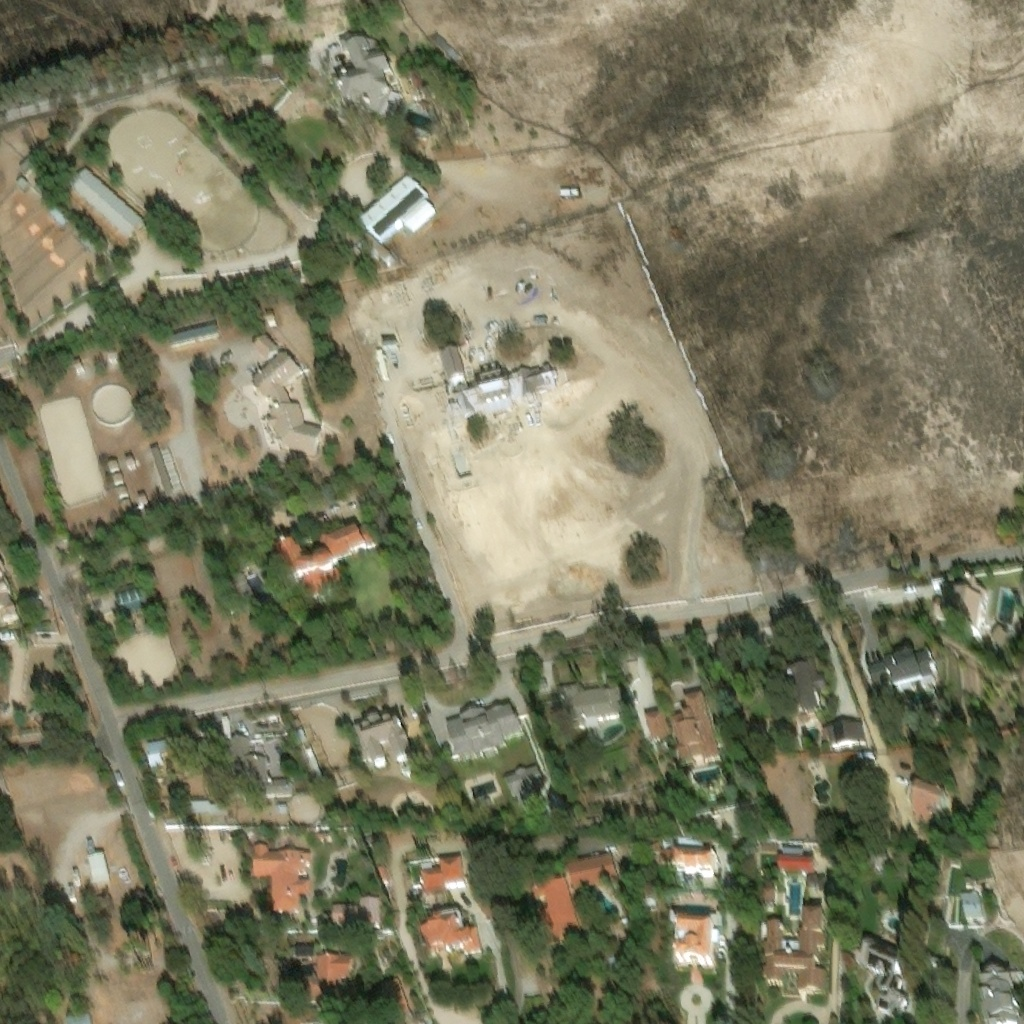0 no-damage: (274, 517, 377, 606), (250, 342, 322, 452), (66, 162, 149, 243), (643, 688, 720, 763), (333, 34, 401, 116), (358, 168, 435, 239), (762, 900, 824, 982), (442, 700, 522, 760), (350, 707, 418, 772), (250, 842, 310, 910), (852, 932, 904, 1010), (223, 732, 289, 793), (525, 875, 582, 944), (973, 945, 1023, 1023), (556, 680, 622, 734), (930, 576, 990, 630), (300, 948, 357, 1003), (667, 902, 719, 961), (864, 646, 935, 689), (418, 909, 480, 953), (783, 656, 827, 718), (378, 972, 431, 1023), (448, 378, 515, 418), (154, 312, 221, 349), (565, 849, 617, 892), (501, 762, 542, 809), (142, 732, 197, 767), (416, 851, 464, 891), (506, 364, 558, 398), (905, 770, 944, 814), (331, 893, 380, 922), (824, 716, 867, 747), (113, 576, 151, 609), (149, 444, 173, 494), (440, 343, 466, 383), (0, 561, 17, 619), (957, 882, 984, 917), (85, 851, 110, 884), (674, 847, 713, 868), (17, 144, 43, 172), (175, 798, 219, 814), (250, 329, 277, 355), (303, 745, 322, 778), (775, 849, 812, 865), (251, 700, 286, 714), (49, 204, 69, 226), (675, 832, 702, 848), (65, 1007, 90, 1023), (985, 616, 1005, 636), (373, 344, 386, 372), (291, 722, 308, 742), (0, 622, 24, 636), (1005, 958, 1021, 976), (657, 847, 675, 859), (27, 705, 42, 719), (779, 837, 800, 847), (122, 452, 136, 466), (14, 176, 29, 189), (110, 471, 124, 484), (65, 881, 75, 898), (106, 457, 119, 470), (135, 490, 148, 503), (119, 497, 133, 509), (379, 334, 395, 344), (115, 484, 128, 496), (761, 880, 772, 894), (50, 697, 60, 704)
